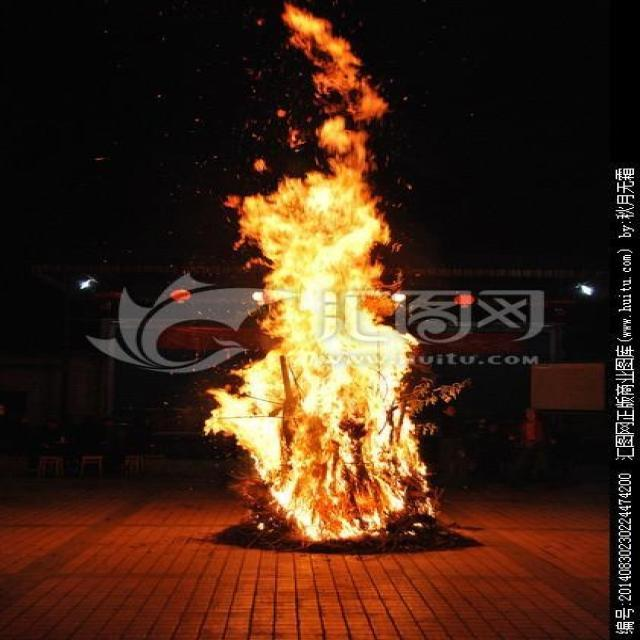Fire: (202, 3, 440, 543)
